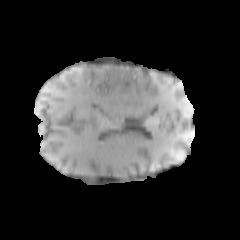glioma: (46, 66, 149, 97)
